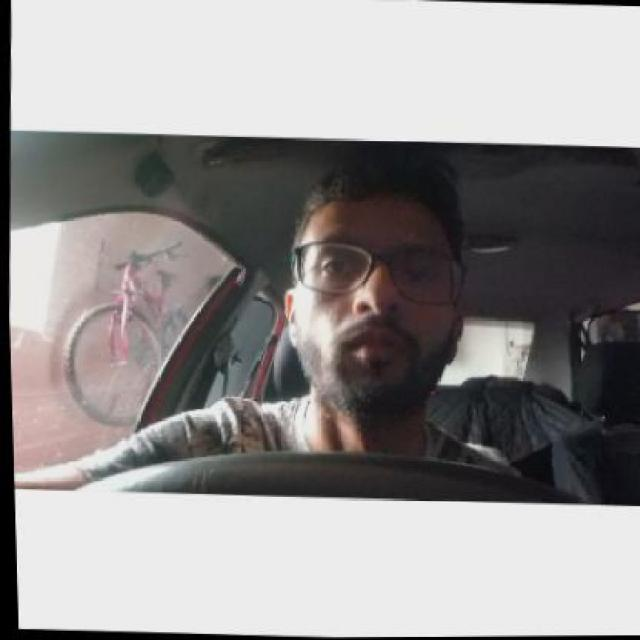person: (287, 155, 468, 410)
